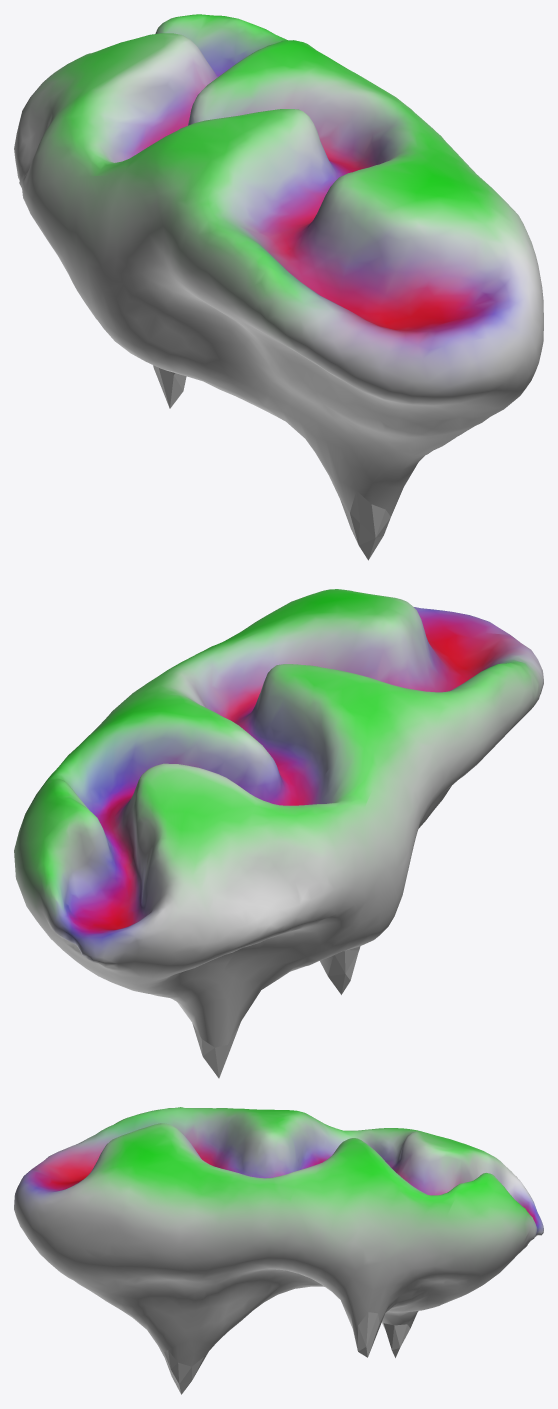
File: Floating Island S Curve.fbx
3 renders of one model, top to bottom at view 1: azimuth 30°, elevation 25°; view 2: azimuth 150°, elevation 25°; view 3: azimuth 270°, elevation 25°, orthographic. The views are drawn at different scales.
Parts seen in each view (by area): view 1: Sphere; view 2: Sphere; view 3: Sphere.
Boxes of the visible parts, box(x1,y1,x2,y2) form: Sphere: box(14, 14, 543, 560); Sphere: box(14, 589, 543, 1078); Sphere: box(14, 1107, 543, 1394).
Size of the model in its own units: 206 by 248 by 455.
